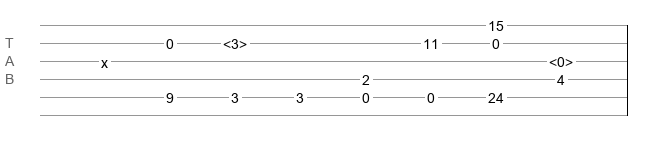0: (166, 36, 174, 46), (362, 90, 370, 100), (427, 90, 435, 100), (492, 36, 500, 46)
11: (423, 36, 439, 46)
15: (488, 18, 504, 28)
2: (362, 72, 370, 82)
24: (488, 90, 504, 100)
3: (231, 90, 239, 100), (296, 90, 304, 100)
4: (557, 72, 565, 82)
9: (166, 90, 174, 100)
harmonic: (223, 36, 247, 46), (549, 54, 573, 64)
x: (101, 55, 108, 63)
